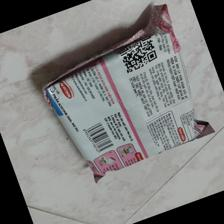Haohao: (40, 4, 218, 188)
